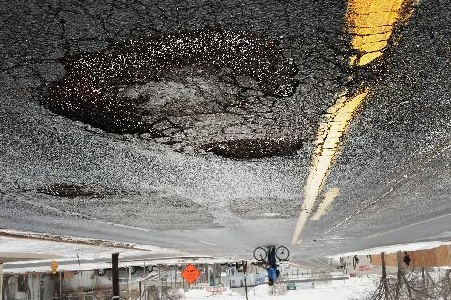pothole: (33, 26, 302, 142), (198, 137, 307, 163), (37, 181, 111, 200)
